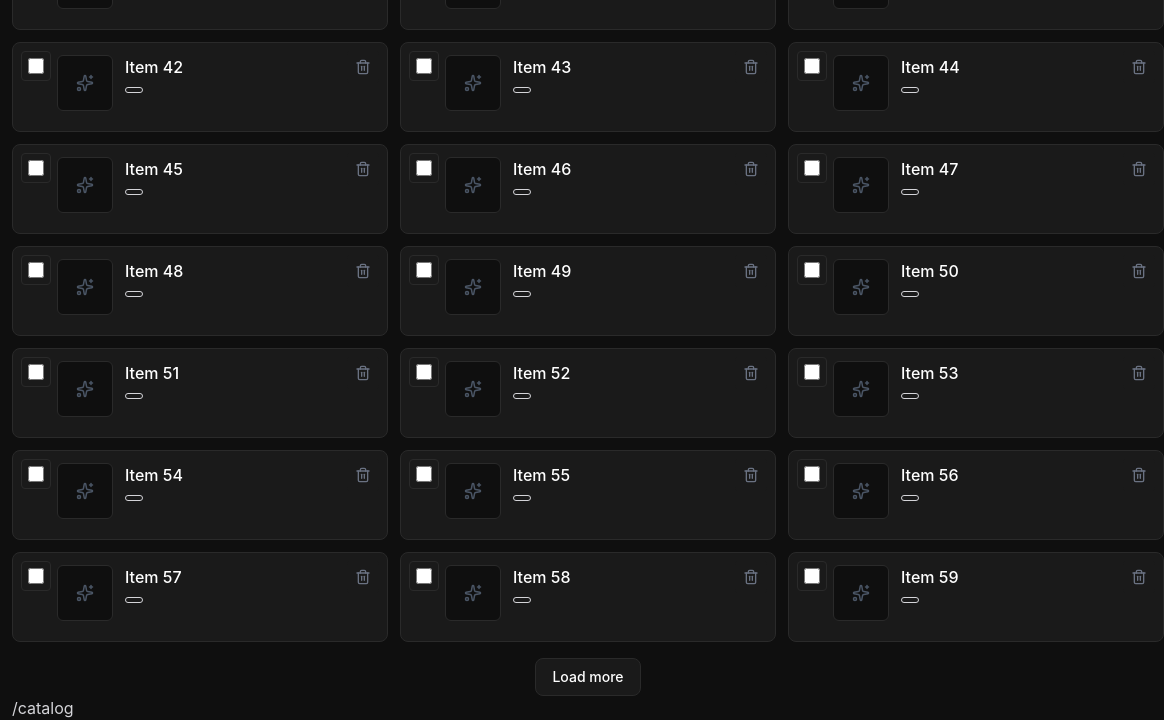
Test: Catalog page › paginates with "Load more", appending the next page at the right offset
(page scrolled)
Step 1. Click the button "Load more" → (588, 677), box [535,658,640,696]
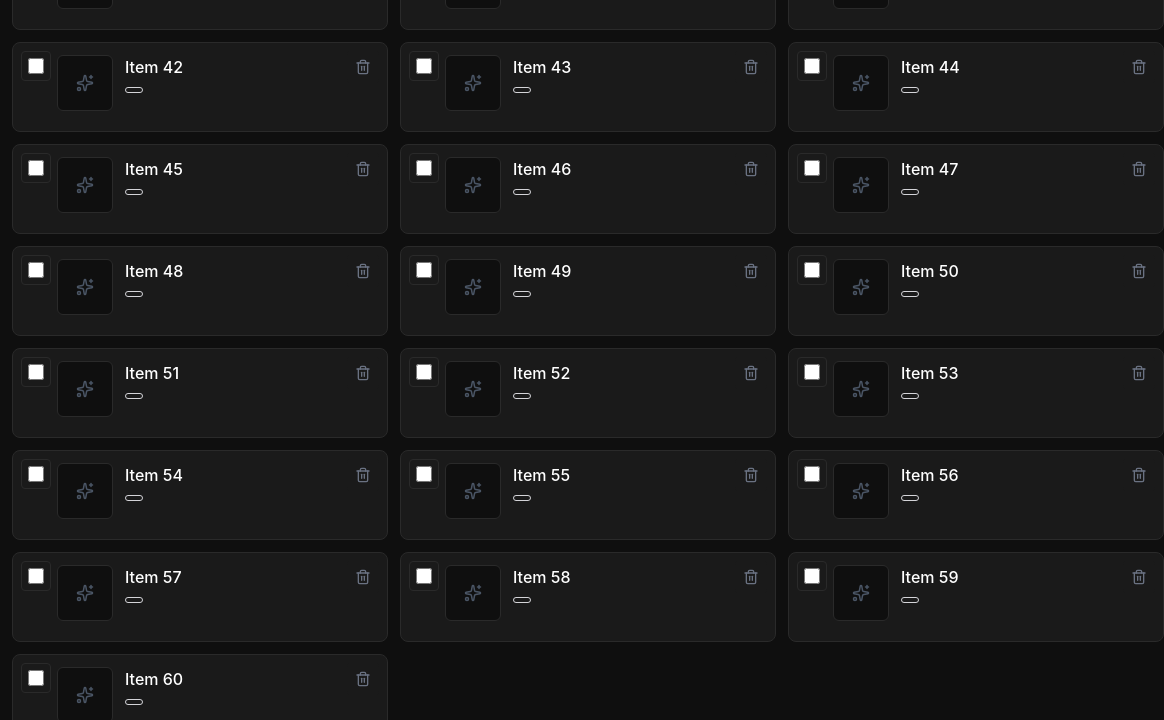
Expected: the text "Item 60" is shown, [125,669,183,689]
